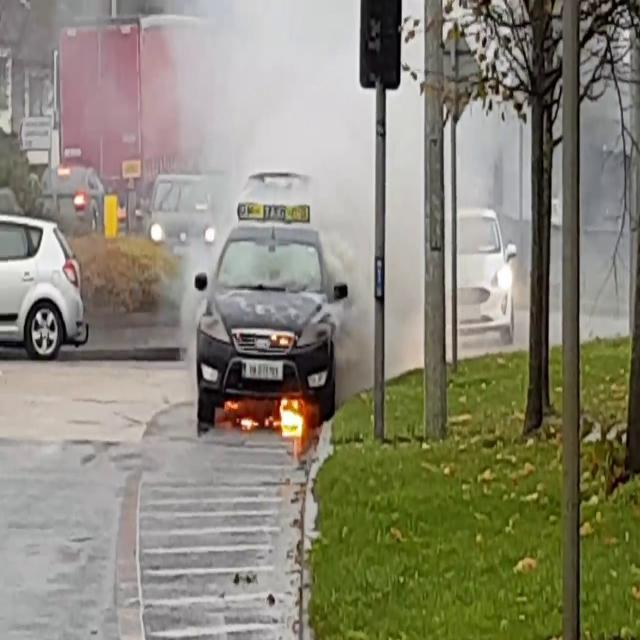Fire: (272, 390, 310, 442)
